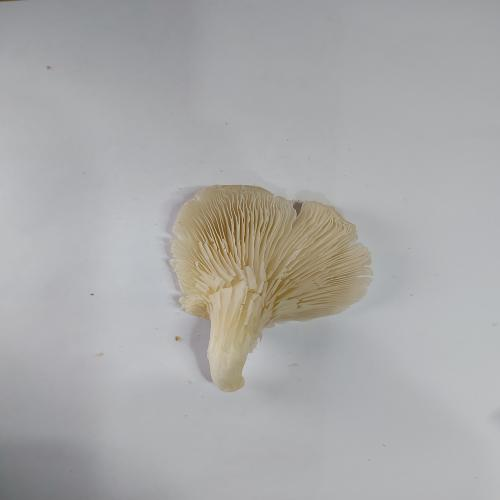Oyster Mushroom: (168, 183, 374, 393)
